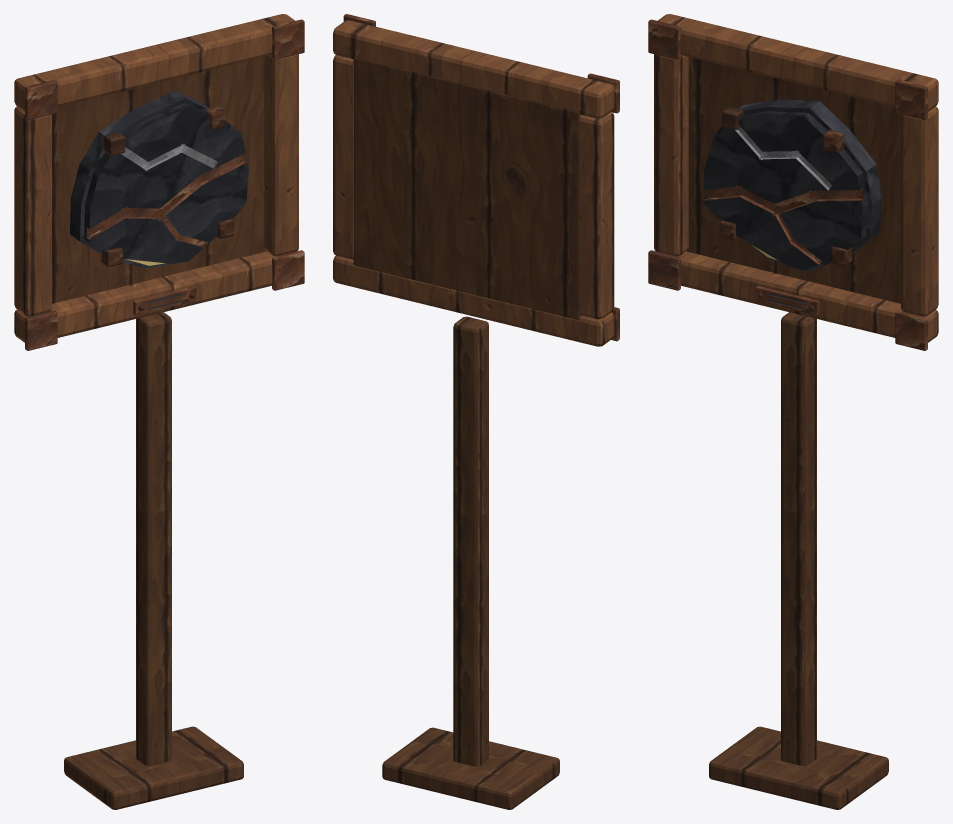
File: hm_vein_slice_frame.glb
3 renders of one model, left to right at view 1: azimuth 30°, elevation 25°; view 2: azimuth 150°, elevation 25°; view 3: azimuth 330°, elevation 25°, orthographic.
Parts seen in each view (by area): view 1: model; view 2: model; view 3: model.
Part boxes in pixels (x1,y1,x2,y2): model: (14,14,304,809); model: (333,14,619,809); model: (648,14,938,809).
Bounding box in the file's own units: 0.63 × 1.58 × 0.2.
9 materials, 7 textured.
